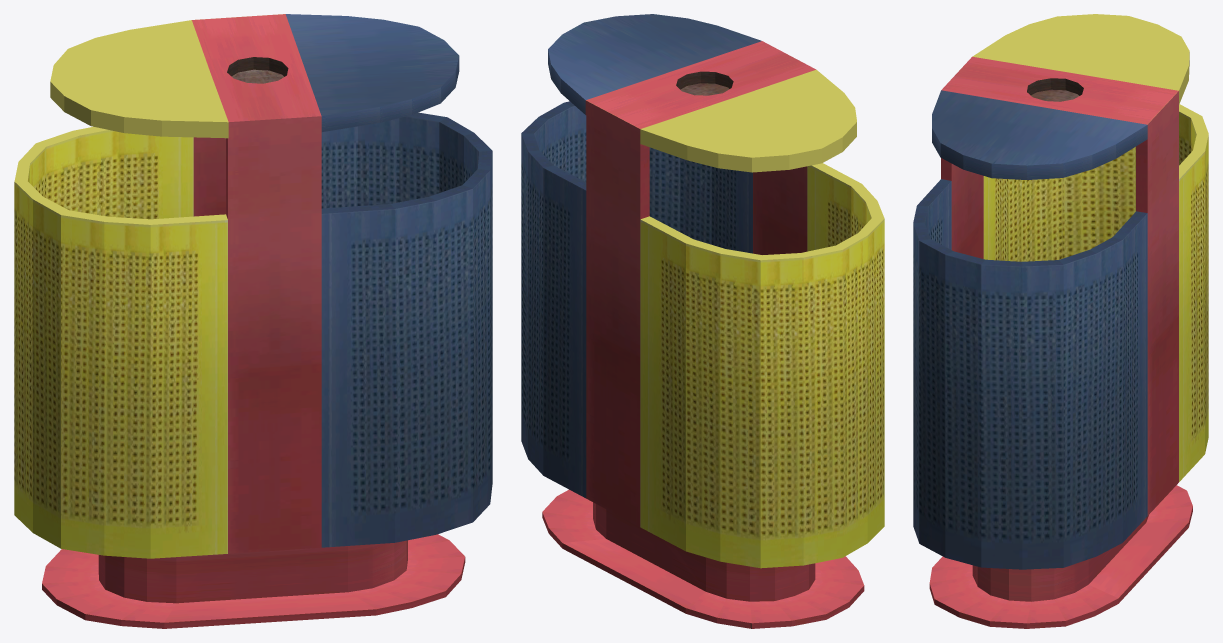
File: pieces1.gltf
The picture shows the model from 3 angles, left to right: view 1: azimuth 30°, elevation 25°; view 2: azimuth 150°, elevation 25°; view 3: azimuth 270°, elevation 25°; orthographic projection. The views are drawn at different scales.
Parts seen in each view (by area): view 1: Node_2e8b4704-9ed5-4608-9ef1-1f005590384a_0_0; view 2: Node_2e8b4704-9ed5-4608-9ef1-1f005590384a_0_0; view 3: Node_2e8b4704-9ed5-4608-9ef1-1f005590384a_0_0.
Part boxes in pixels (bbox=[...]): Node_2e8b4704-9ed5-4608-9ef1-1f005590384a_0_0: bbox=[14, 14, 492, 628]; Node_2e8b4704-9ed5-4608-9ef1-1f005590384a_0_0: bbox=[521, 14, 884, 628]; Node_2e8b4704-9ed5-4608-9ef1-1f005590384a_0_0: bbox=[913, 14, 1208, 628].
Size of the model in its own units: 0.658 by 0.7998 by 0.4648.
1 material, 1 textured.
